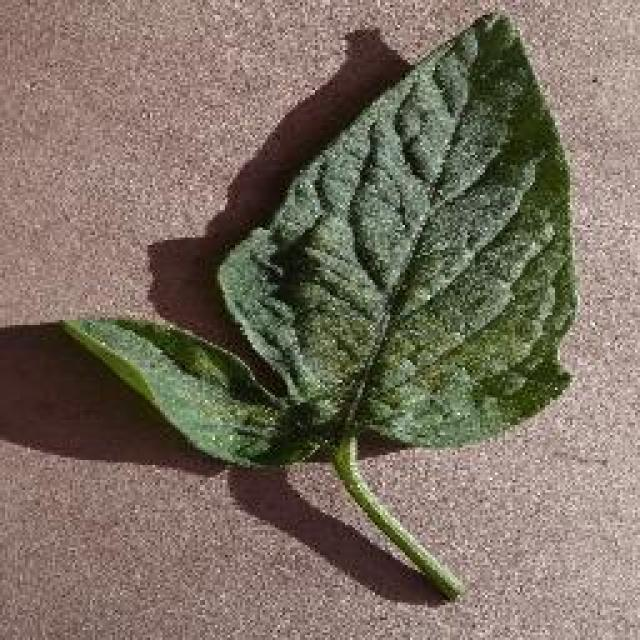Tomato mosaic virus leaf: (221, 12, 579, 458), (58, 314, 332, 474)
